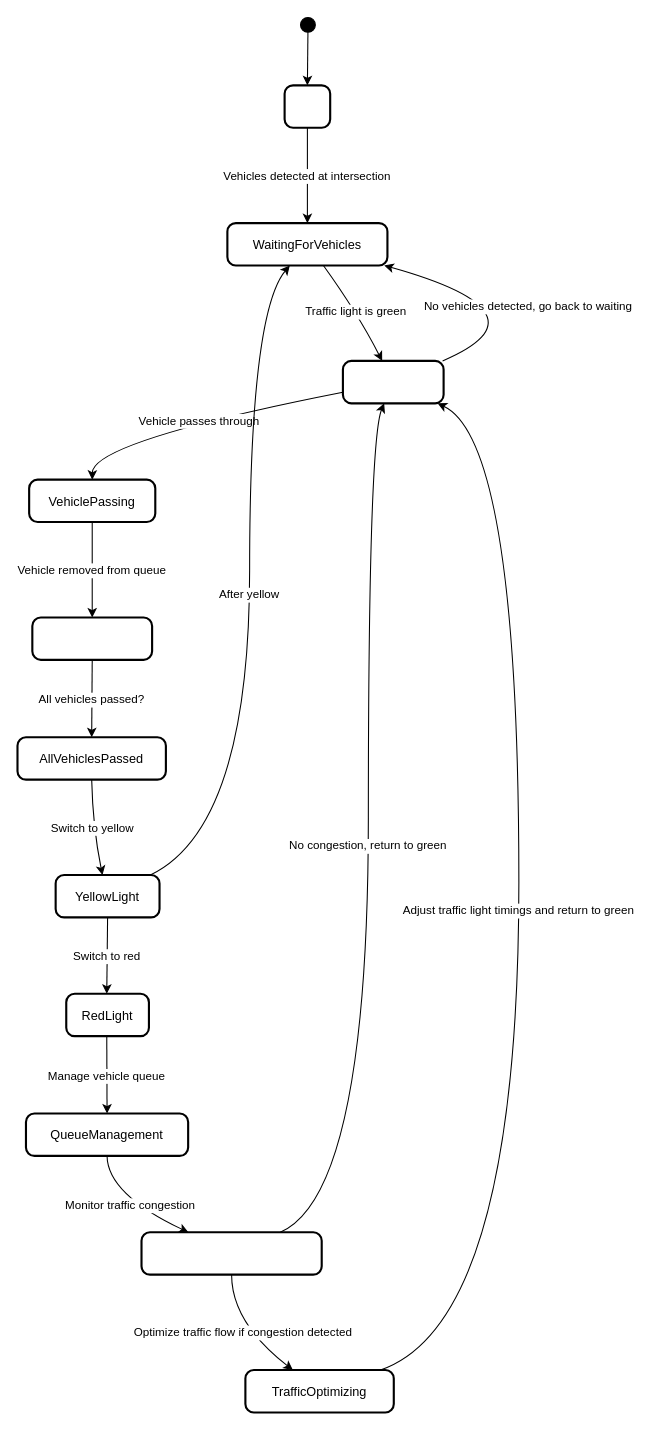
This 653x1430 diagram has some shape labels left out. Here are the shapes that lost their labels. From the top down, the centre of each, then its label:
point (307, 106): Idle
point (392, 381): GreenLight
point (92, 638): QueueUpdate
point (231, 1253): MonitoringCongestion
